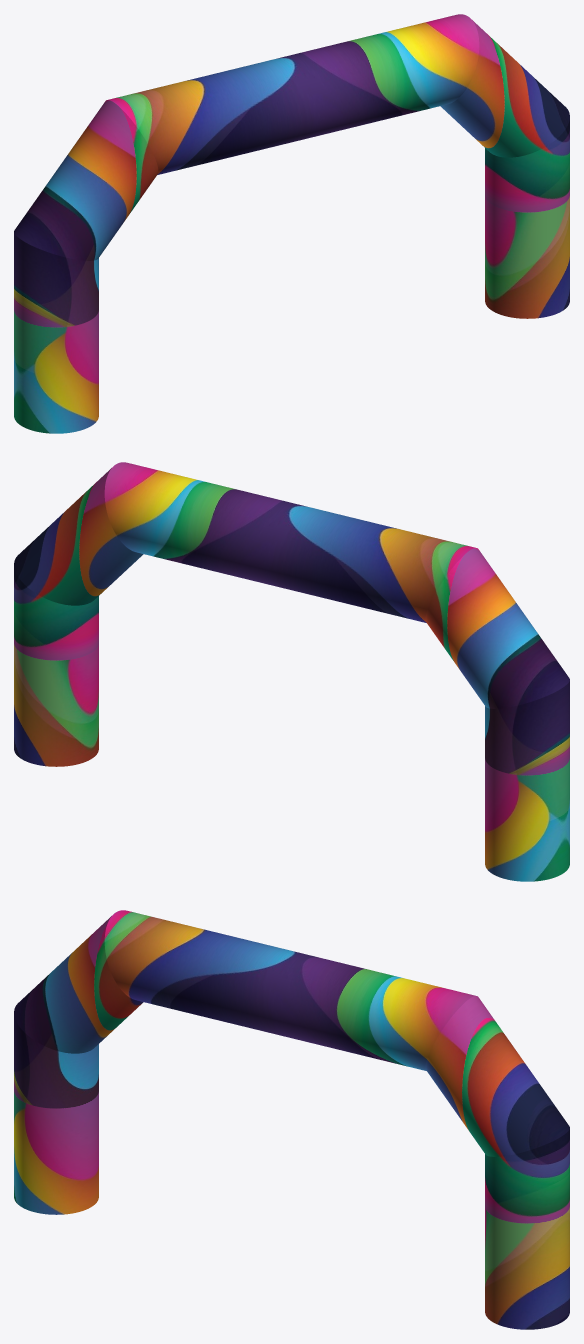
Rendered from ballon-gate.glb.
3 views of the same model, one above another, from view 1: azimuth 30°, elevation 25°; view 2: azimuth 150°, elevation 25°; view 3: azimuth 330°, elevation 25° (orthographic).
Visible parts, largest first — view 1: BALLON_GATEobjcleanermaterialmergergles; view 2: BALLON_GATEobjcleanermaterialmergergles; view 3: BALLON_GATEobjcleanermaterialmergergles.
Boxes of the visible parts, x1,y1,x2,y2 form: BALLON_GATEobjcleanermaterialmergergles: (14,14,569,433); BALLON_GATEobjcleanermaterialmergergles: (14,462,569,881); BALLON_GATEobjcleanermaterialmergergles: (14,910,569,1329).
Size of the model in its own units: 7.4 by 3.87 by 1.
Materials: 2 (2 with a texture image).
